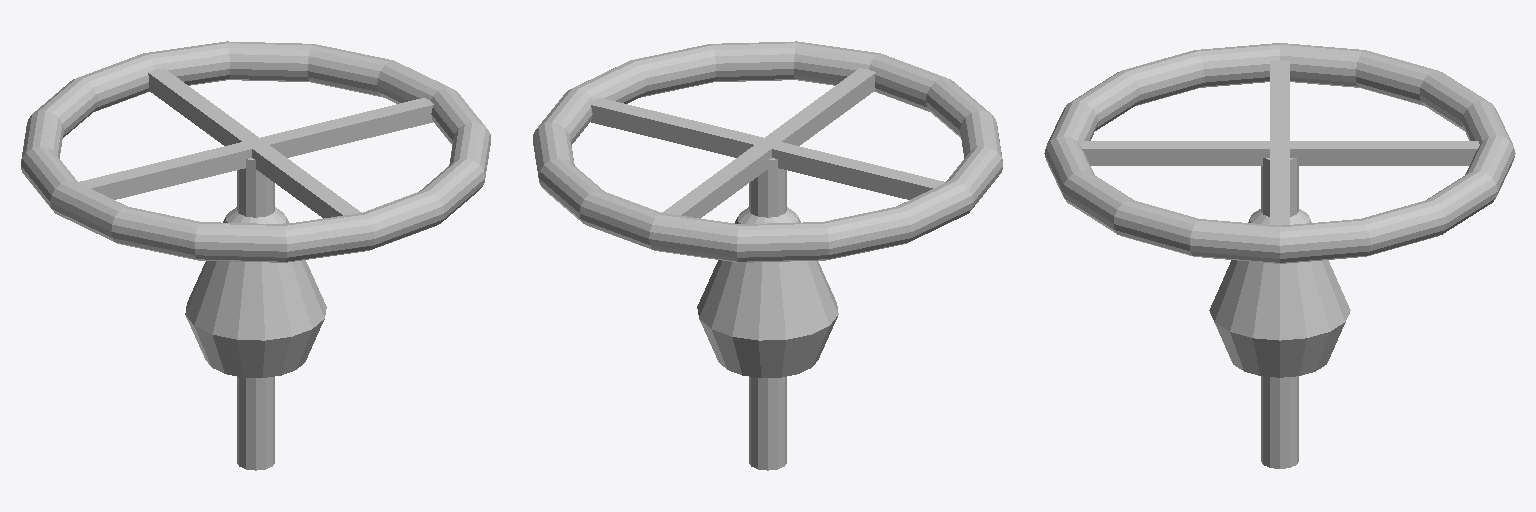
robot.urdf — drcbox-valve-large-0-robot:
<?xml version="1.0"?>
<robot name="drcbox-valve-large-0-robot"
       xmlns:xi="http://www.w3.org/2001/XInclude"
       xmlns:gazebo="http://playerstage.sourceforge.net/gazebo/xmlschema/#gz"
       xmlns:model="http://playerstage.sourceforge.net/gazebo/xmlschema/#model"
       xmlns:sensor="http://playerstage.sourceforge.net/gazebo/xmlschema/#sensor"
       xmlns:body="http://playerstage.sourceforge.net/gazebo/xmlschema/#body"
       xmlns:geom="http://playerstage.sourceforge.net/gazebo/xmlschema/#geom"
       xmlns:joint="http://playerstage.sourceforge.net/gazebo/xmlschema/#joint"
       xmlns:interface="http://playerstage.sourceforge.net/gazebo/xmlschema/#interface"
       xmlns:rendering="http://playerstage.sourceforge.net/gazebo/xmlschema/#rendering"
       xmlns:renderable="http://playerstage.sourceforge.net/gazebo/xmlschema/#renderable"
       xmlns:controller="http://playerstage.sourceforge.net/gazebo/xmlschema/#controller"
       xmlns:physics="http://playerstage.sourceforge.net/gazebo/xmlschema/#physics">
  <gazebo>
    <static>false</static>
  </gazebo>
  <link name="CRANK-ROOT-LINK_link">
    <visual>
      <origin xyz="0 0 0" rpy="0 -0 0"/>
      <geometry>
        <mesh filename="model://drcbox-valve-large-0/meshes/CRANK-ROOT-LINK_link_mesh.dae" scale="1 1 1" />
      </geometry>
    </visual>
    <collision>
      <origin xyz="0 0 0" rpy="0 -0 0"/>
      <geometry>
        <mesh filename="model://drcbox-valve-large-0/meshes/CRANK-ROOT-LINK_link_mesh.dae" scale="1 1 1" />
      </geometry>
    </collision>
    <inertial>
      <mass value="0.001" />
      <origin xyz="0 0 0" rpy="0 -0 0"/>
      <inertia ixx="1e-03" ixy="0" ixz="0" iyy="1e-03" iyz="0" izz="1e-03"/>
    </inertial>
  </link>
  <gazebo reference="CRANK-ROOT-LINK_link">
    <mu1>0.9</mu1>
    <mu2>0.9</mu2>
  </gazebo>
  <link name="VALVE-HANDLE-LINK_link">
    <visual>
      <origin xyz="0 0 0.353" rpy="0 -0 0"/>
      <geometry>
        <mesh filename="model://drcbox-valve-large-0/meshes/VALVE-HANDLE-LINK_link_mesh.dae" scale="1 1 1" />
      </geometry>
    </visual>
    <collision>
      <origin xyz="0 0 0.353" rpy="0 -0 0"/>
      <geometry>
        <mesh filename="model://drcbox-valve-large-0/meshes/VALVE-HANDLE-LINK_link_mesh.dae" scale="1 1 1" />
      </geometry>
    </collision>
    <inertial>
      <mass value="0.001" />
      <origin xyz="0 0 0" rpy="0 -0 0"/>
      <inertia ixx="1e-03" ixy="0" ixz="0" iyy="1e-03" iyz="0" izz="1e-03"/>
    </inertial>
  </link>
  <gazebo reference="VALVE-HANDLE-LINK_link">
    <mu1>0.9</mu1>
    <mu2>0.9</mu2>
  </gazebo>
  <joint name="CRANK-JOINT" type="revolute">
    <parent link="CRANK-ROOT-LINK_link"/>
    <child  link="VALVE-HANDLE-LINK_link"/>
    <origin xyz="0 0 0.353" rpy="0 -0 0 "/>
    <axis   xyz="0 0 1"/>
    <limit lower="-62.8319" upper="62.8319" effort="100" velocity="0.5" />
    <dynamics damping="0.2" friction="0" />
  </joint>
  <transmission type="pr2_mechanism_model/SimpleTransmission" name="CRANK-JOINT_trans" >
    <actuator name="CRANK-JOINT_motor" />
    <joint name="CRANK-JOINT" />
    <mechanicalReduction>1</mechanicalReduction>
  </transmission>
  <gazebo reference="CRANK-JOINT">
    <cfmDamping>0.4</cfmDamping>
  </gazebo>
</robot>

--- Render facts (derived) ---
3 views of the same robot in one strip: view 1: azimuth 30°, elevation 25°; view 2: azimuth 150°, elevation 25°; view 3: azimuth 270°, elevation 25° (orthographic).
Robot: drcbox-valve-large-0-robot — 2 links, 1 joints (1 revolute); root link CRANK-ROOT-LINK_link; default pose: all joints at 0.
Visible links, largest first — view 1: VALVE-HANDLE-LINK_link, CRANK-ROOT-LINK_link; view 2: VALVE-HANDLE-LINK_link, CRANK-ROOT-LINK_link; view 3: VALVE-HANDLE-LINK_link, CRANK-ROOT-LINK_link.
Boxes of the visible links, <box> form: VALVE-HANDLE-LINK_link: <box>21,41,490,262</box>; CRANK-ROOT-LINK_link: <box>185,158,326,470</box>; VALVE-HANDLE-LINK_link: <box>533,41,1002,262</box>; CRANK-ROOT-LINK_link: <box>697,158,838,470</box>; VALVE-HANDLE-LINK_link: <box>1044,43,1515,263</box>; CRANK-ROOT-LINK_link: <box>1209,158,1350,468</box>.
Size in the robot's own frame: 0.49 by 0.49 by 0.373 metres.
2 mesh visuals loaded from 2 distinct referenced files (2 Collada DAE).